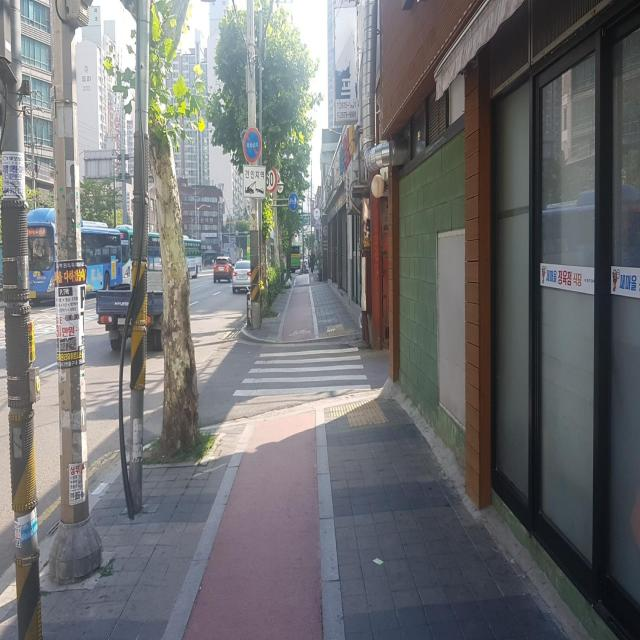횡단보도: (232, 346, 372, 397)
